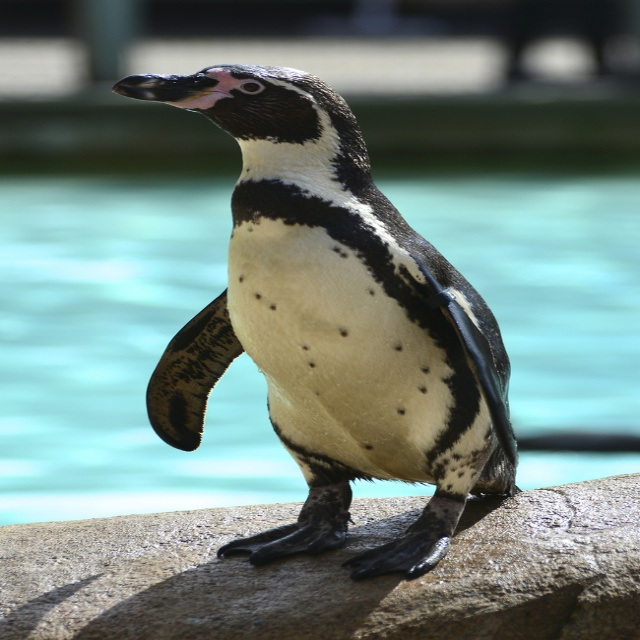Penguin: (130, 69, 554, 598)
